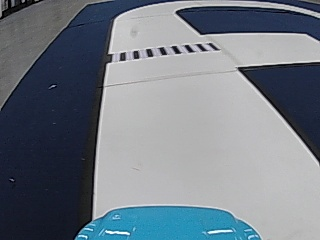CrossWalk: (111, 41, 217, 61)
